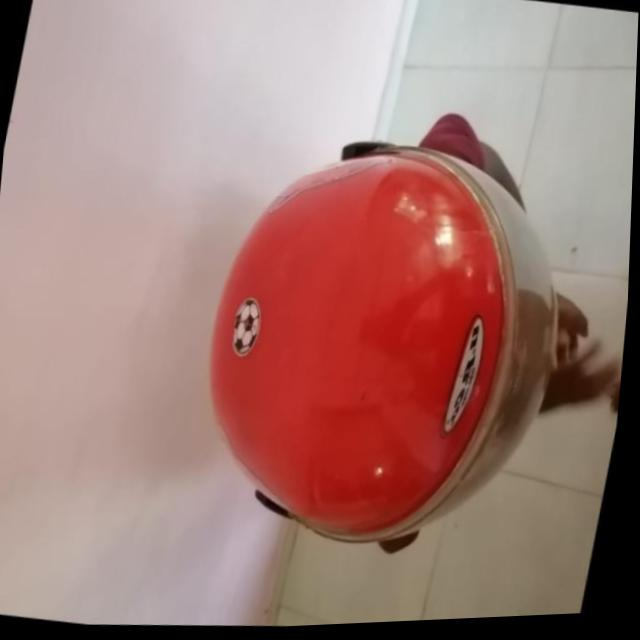WITH_HELMET: (165, 106, 587, 590)
